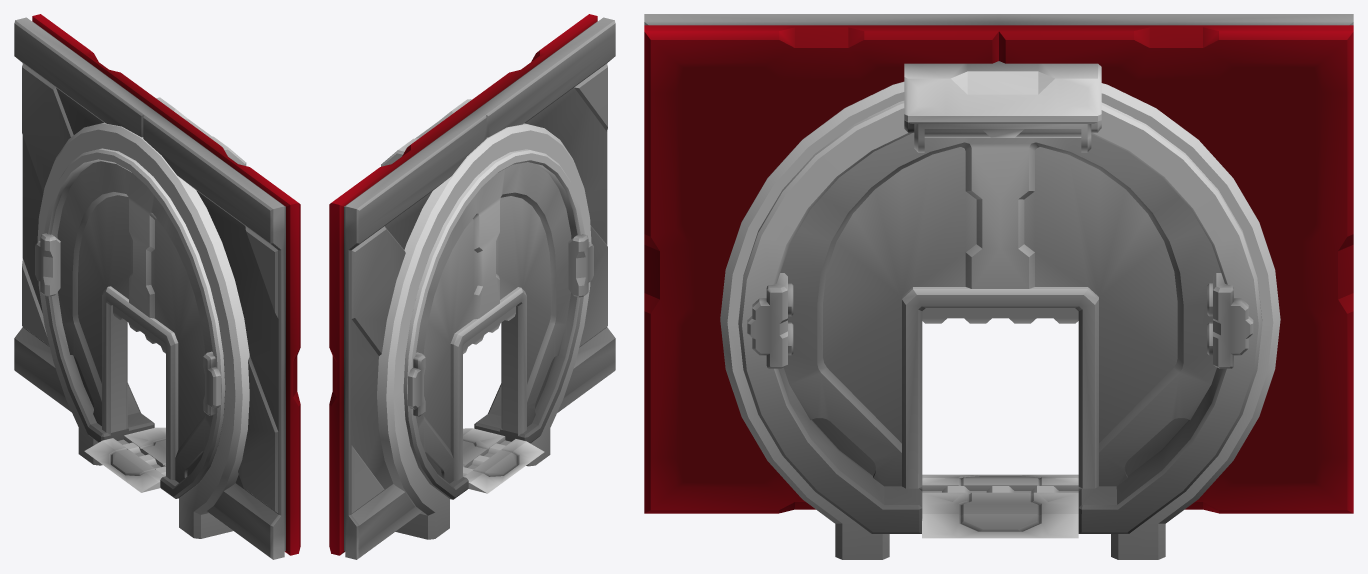
Rendered from env_undergroundstation_barracks_panel02_lod0.fbx.
3 views of the same model, side by side, from view 1: azimuth 30°, elevation 25°; view 2: azimuth 150°, elevation 25°; view 3: azimuth 270°, elevation 25° (orthographic). The views are drawn at different scales.
Parts seen in each view (by area): view 1: barracks_panel02.001, barracks_panel02.002, barracks_panel02.007, barracks_panel02.006, barracks_panel02.004, barracks_panel02.003, barracks_panel02.005, barracks_panel02; view 2: barracks_panel02.001, barracks_panel02.002, barracks_panel02.007, barracks_panel02.006, barracks_panel02.004, barracks_panel02.003, barracks_panel02, barracks_panel02.005; view 3: barracks_panel02.001, barracks_panel02.002, barracks_panel02.007, barracks_panel02, barracks_panel02.006, barracks_panel02.004, barracks_panel02.003, barracks_panel02.005.
Boxes of the visible parts, x1,y1,x2,y2 form: barracks_panel02.001: [14, 14, 300, 559]; barracks_panel02.002: [44, 148, 225, 498]; barracks_panel02.007: [37, 122, 249, 538]; barracks_panel02.006: [102, 286, 178, 479]; barracks_panel02.004: [84, 427, 165, 492]; barracks_panel02.003: [35, 233, 220, 415]; barracks_panel02.005: [113, 305, 165, 353]; barracks_panel02: [156, 97, 246, 165]; barracks_panel02.001: [329, 14, 615, 559]; barracks_panel02.002: [403, 149, 584, 499]; barracks_panel02.007: [377, 123, 591, 539]; barracks_panel02.006: [450, 287, 526, 480]; barracks_panel02.004: [463, 428, 544, 493]; barracks_panel02.003: [408, 234, 593, 416]; barracks_panel02: [381, 99, 471, 166]; barracks_panel02.005: [463, 306, 515, 353]; barracks_panel02.001: [644, 14, 1353, 513]; barracks_panel02.002: [738, 101, 1262, 533]; barracks_panel02.007: [720, 81, 1280, 559]; barracks_panel02: [904, 61, 1101, 152]; barracks_panel02.006: [902, 287, 1098, 488]; barracks_panel02.004: [922, 474, 1078, 538]; barracks_panel02.003: [747, 273, 1253, 368]; barracks_panel02.005: [922, 308, 1078, 323].
Bounding box in the file's own units: 17.89 × 65 × 80.
